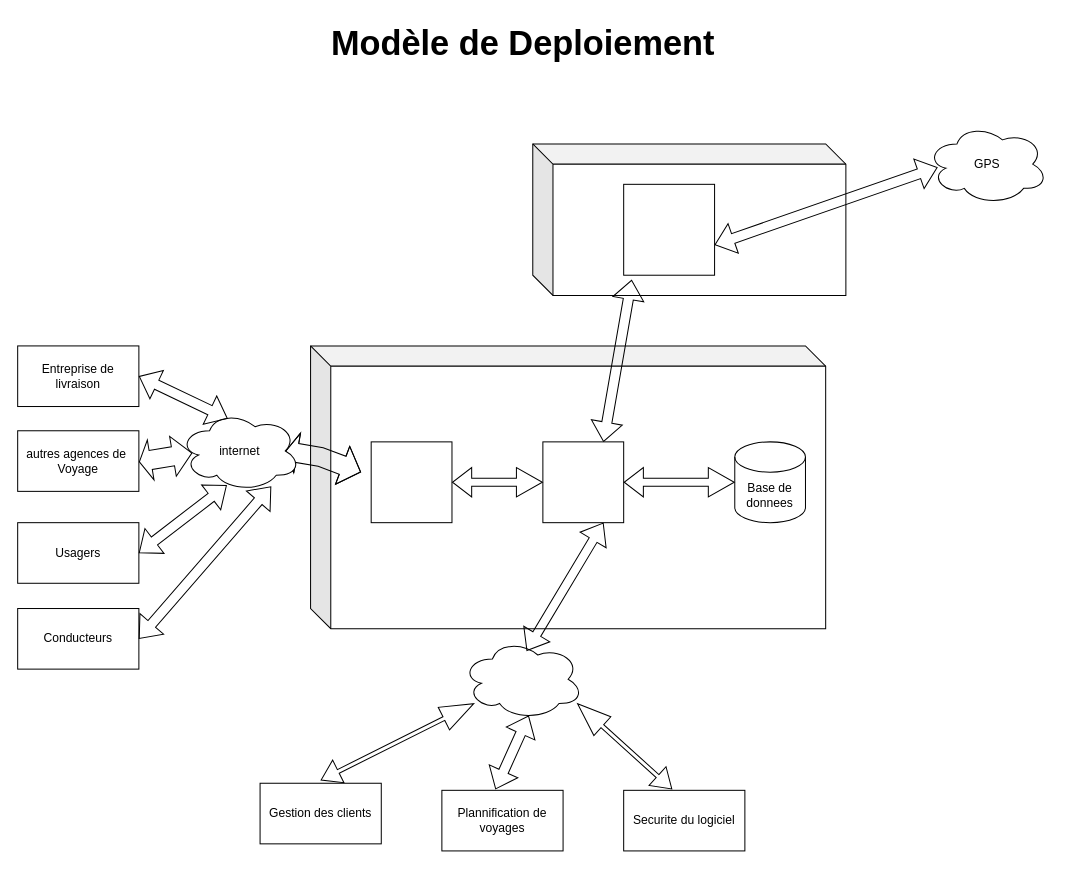
The diagram is 1066 pixels wide and 869 high, and some of its shapes have lost their labels. Each missing label, with the centre of its shape:
"API externe (OpenStreetMap)" goes at point (669, 229).
"API interne" goes at point (583, 482).
"Internet ou local" goes at point (522, 679).
"Plateforme" goes at point (411, 482).
